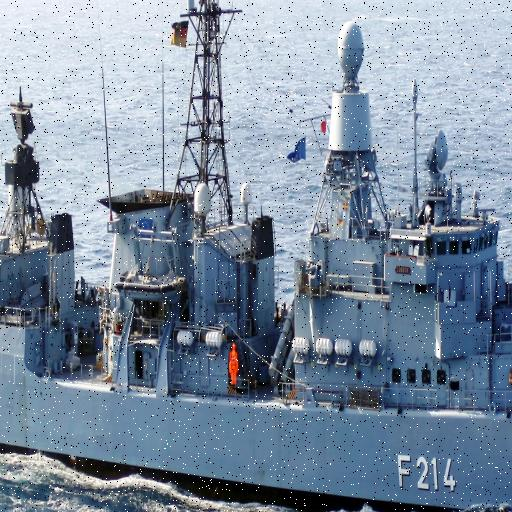Fragata: (1, 4, 512, 512)
